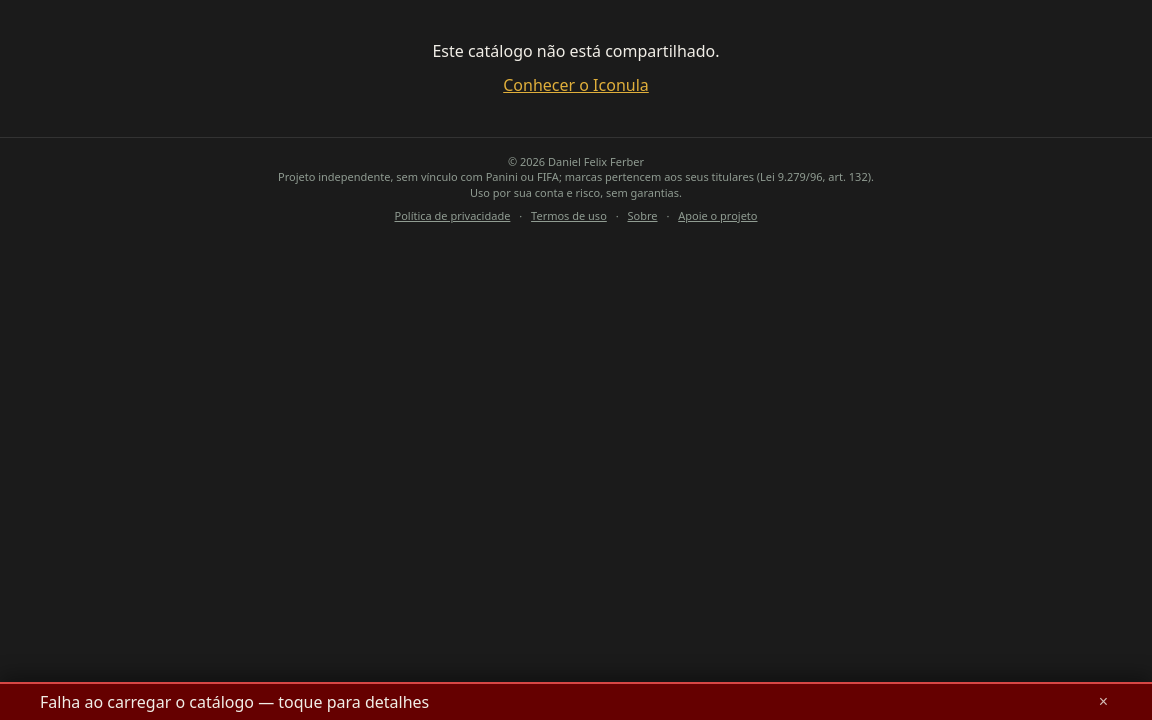
Test: App — vista do link do catálogo (IDR 0055) › falha de leitura soma o aviso de falha à mesma tela, com o detalhe técnico
Check: the text "Este catálogo não está compartilhado." is shown, box [432,40,720,62]
What coordinates should you click on to do the following:
click the button "Falha ao carregar o catálogo — toque para detalhes"
I would click on:
 (235, 702)
Its box is [40,691,1083,713].
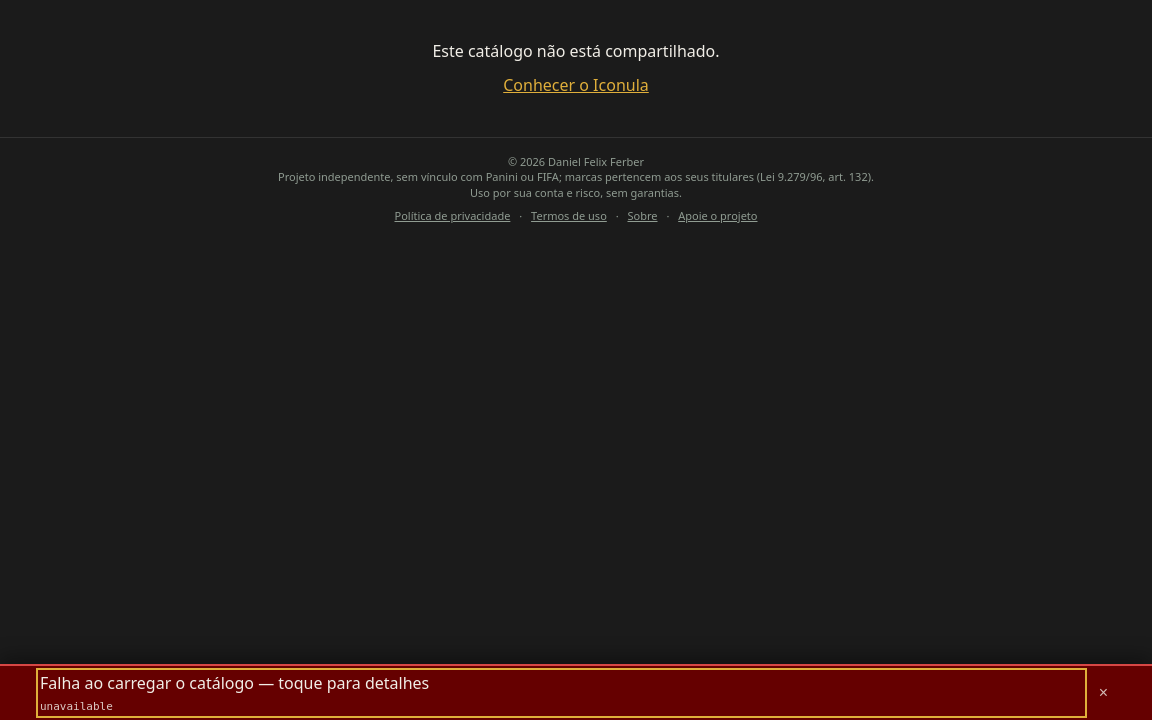
Check: the text "unavailable" is shown, box [40,700,113,713]
